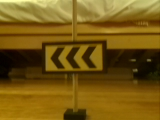left: (42, 43, 107, 72)
